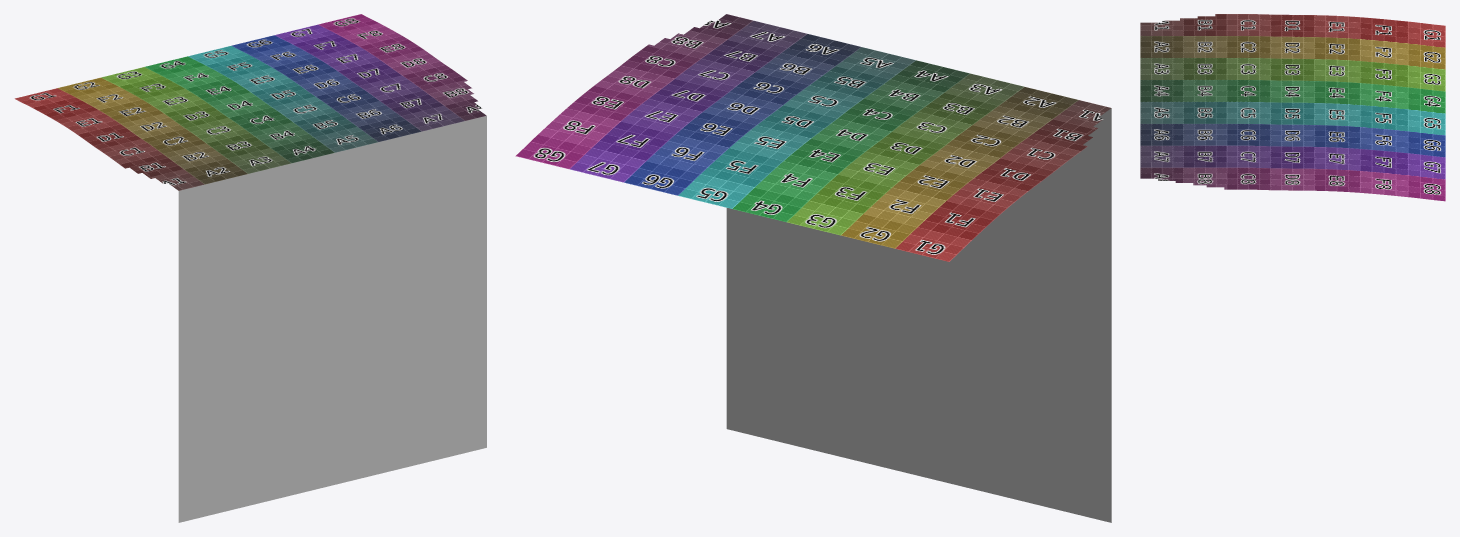
Rendered from ocean-impostor.gltf.
The picture shows the model from 3 angles, left to right: view 1: azimuth 30°, elevation 25°; view 2: azimuth 150°, elevation 25°; view 3: azimuth 270°, elevation 25°; orthographic projection. The views are drawn at different scales.
Visible parts, largest first — view 1: ocean_impostor_improved; view 2: ocean_impostor_improved; view 3: ocean_impostor_improved.
Part boxes in pixels (x1,y1,x2,y2): ocean_impostor_improved: (14,14,486,522); ocean_impostor_improved: (515,14,1111,522); ocean_impostor_improved: (1140,14,1445,201).
Size of the model in its own units: 82.07 by 75 by 60.27.
